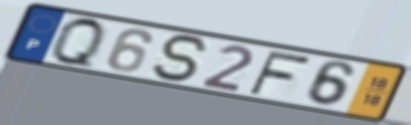2: (199, 43, 257, 94)
6: (303, 59, 358, 109), (105, 28, 154, 74)
F: (246, 49, 315, 96)
Q: (49, 15, 108, 73)
S: (151, 33, 213, 85)
